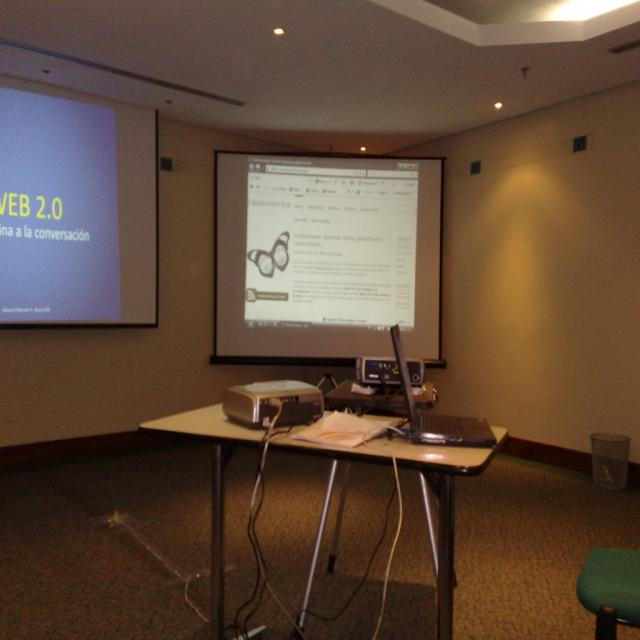chair: (575, 547, 640, 639)
desk: (154, 358, 497, 626)
laptop: (390, 322, 497, 447)
tv: (212, 153, 447, 370), (0, 75, 159, 331)
